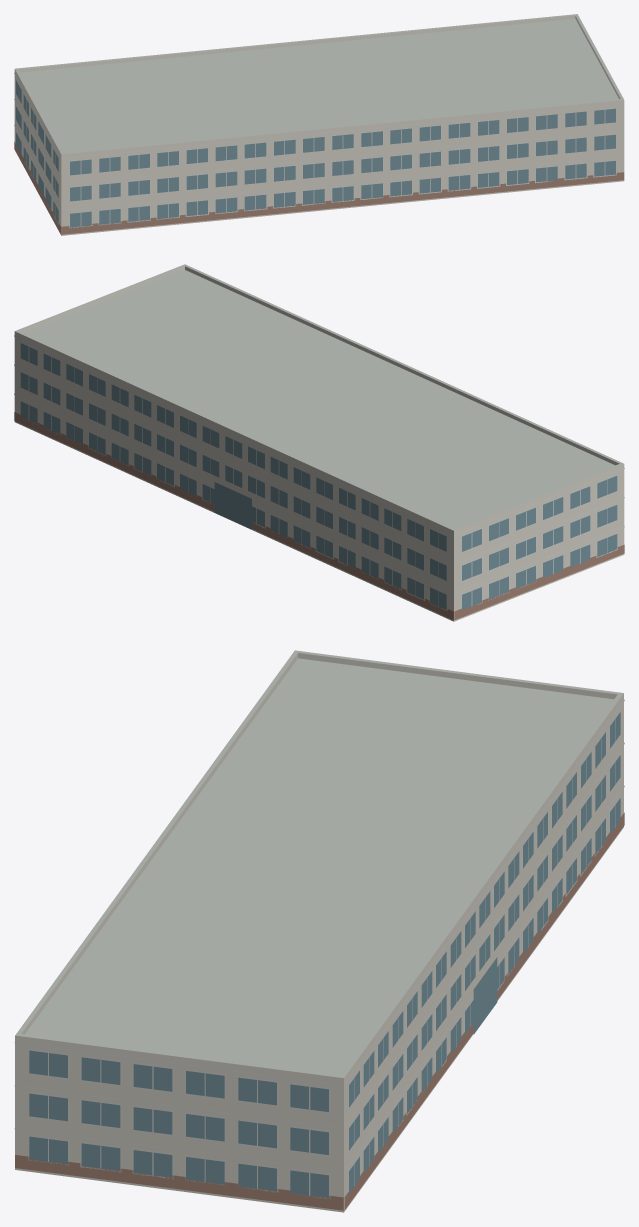
The model's file is public-bbe54fd2-21ce-450a-86fe-1b444dedcb30.glb.
3 renders of one model, top to bottom at view 1: azimuth 30°, elevation 25°; view 2: azimuth 150°, elevation 25°; view 3: azimuth 270°, elevation 25°, orthographic. The views are drawn at different scales.
Visible parts, largest first — view 1: public-bbe54fd2-21ce-450a-86fe-1b444dedcb30; view 2: public-bbe54fd2-21ce-450a-86fe-1b444dedcb30; view 3: public-bbe54fd2-21ce-450a-86fe-1b444dedcb30.
Part boxes in pixels (left/top/right/bottom): public-bbe54fd2-21ce-450a-86fe-1b444dedcb30: left=14, top=14, right=624, bottom=235; public-bbe54fd2-21ce-450a-86fe-1b444dedcb30: left=14, top=264, right=624, bottom=621; public-bbe54fd2-21ce-450a-86fe-1b444dedcb30: left=14, top=650, right=624, bottom=1212.
Bounding box in the file's own units: 62.6 × 9.15 × 37.7.
